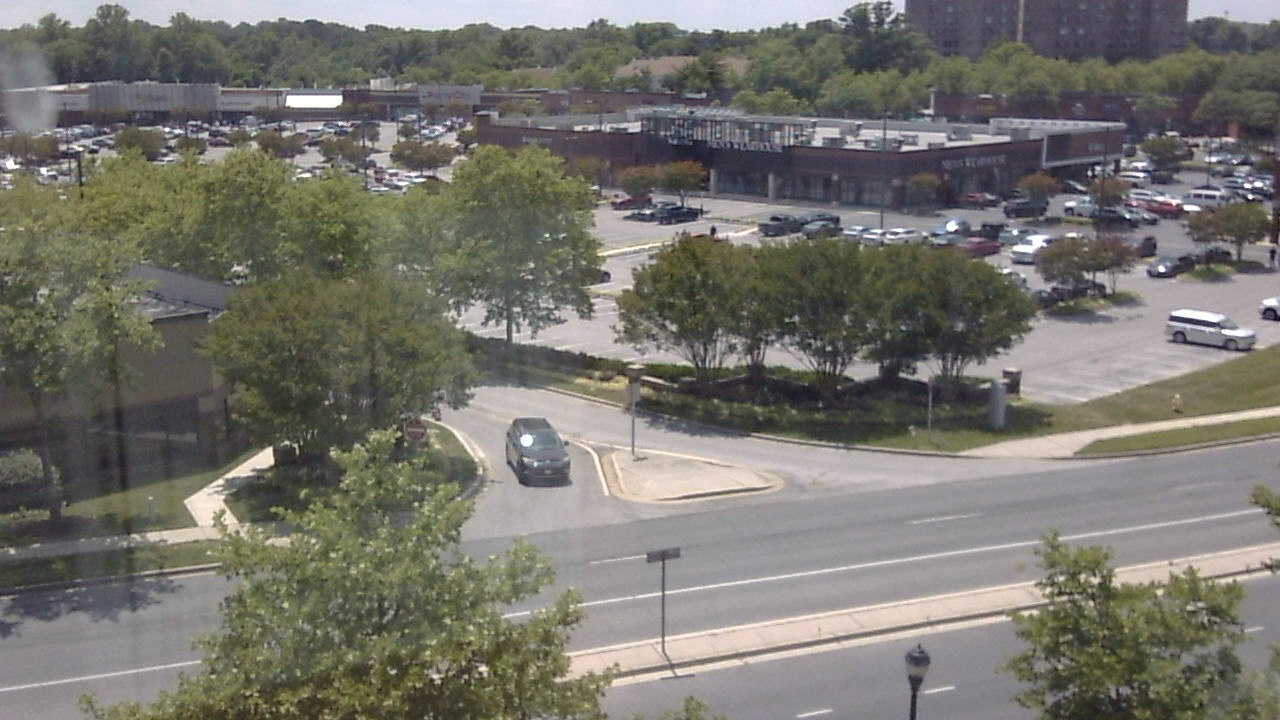Car: (492, 403, 585, 507)
